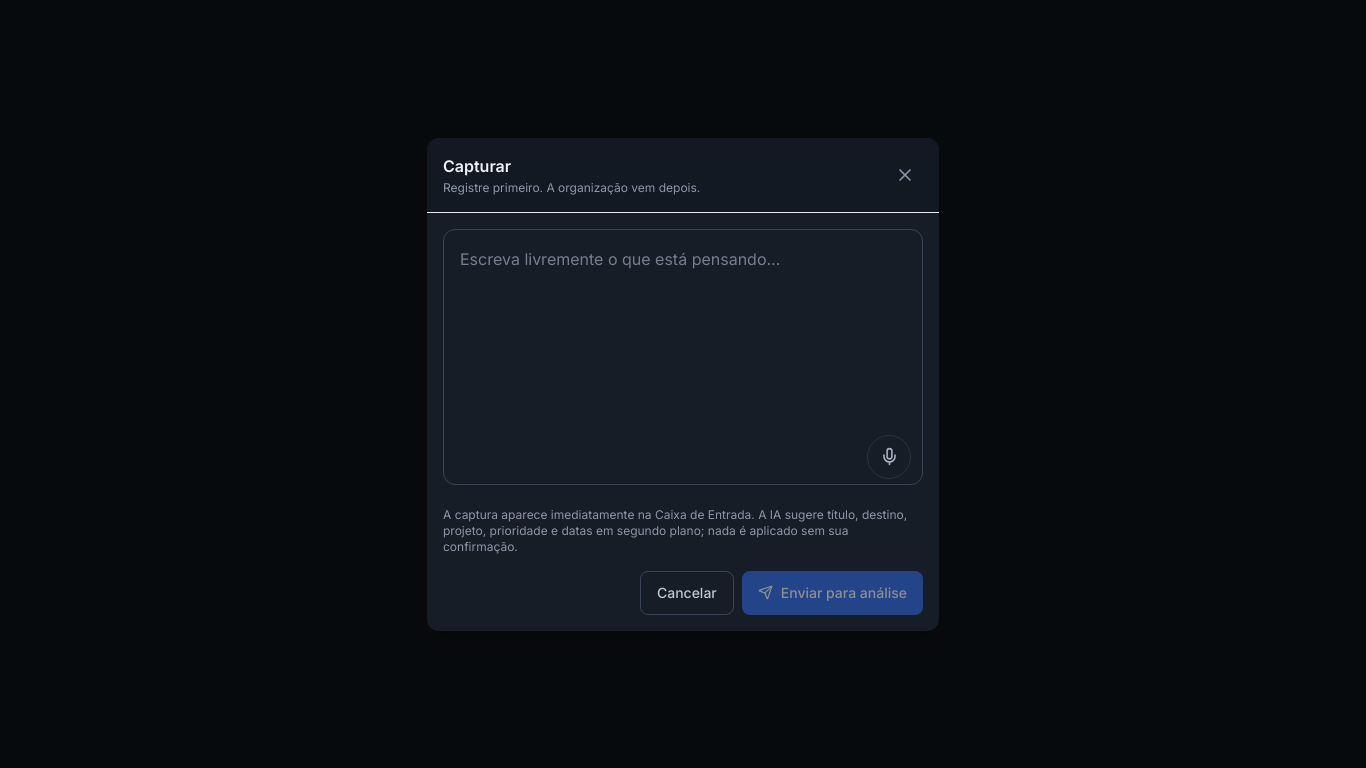
Test: QuickCaptureModal — captura livre por texto › mantém o modal aberto e mostra erro quando a persistência falha
The image size is (1366, 768).
Type "Uma captura importante" into the text box with placeholder "Escreva livremente o que está pensando…".
click(683, 356); type("Uma captura importante")  # box [443,228,923,484]
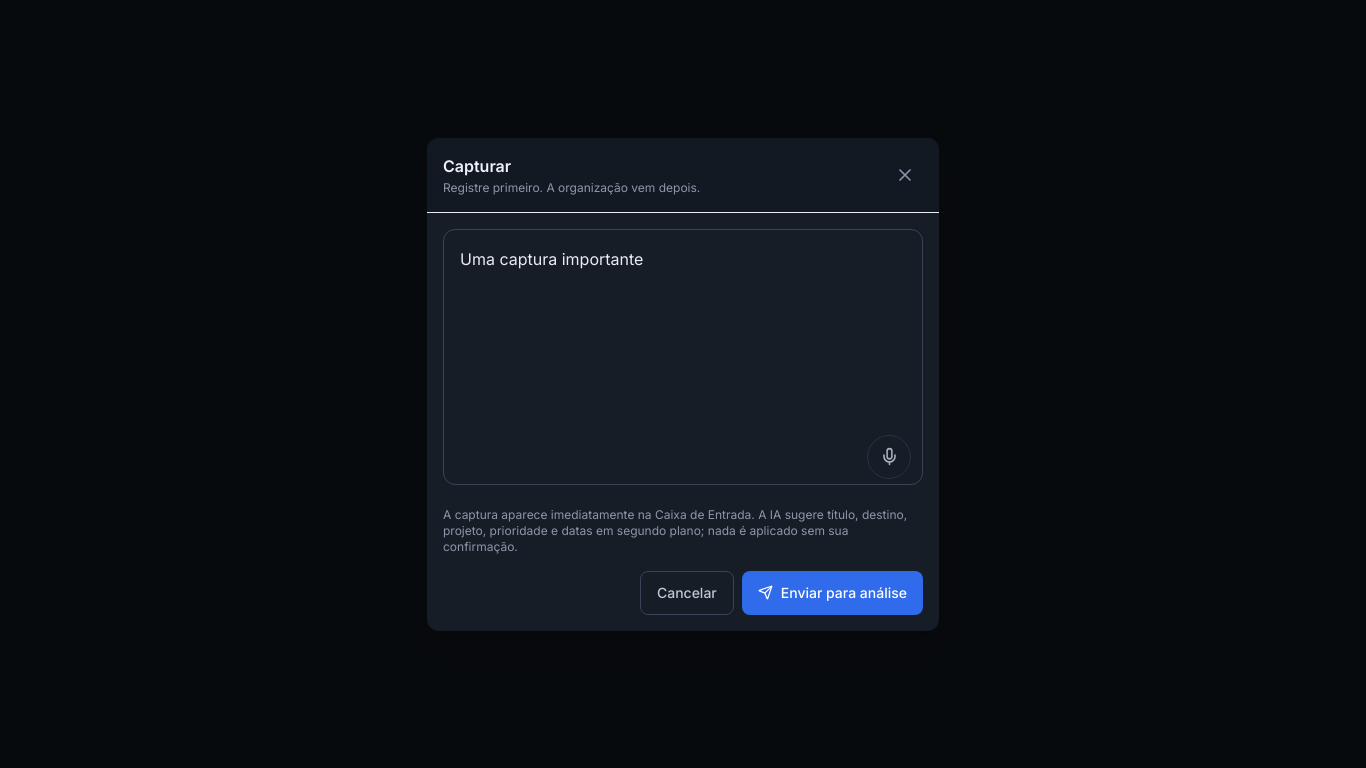
Click the button "Enviar para análise".
click(832, 592)  # box [742,570,923,614]
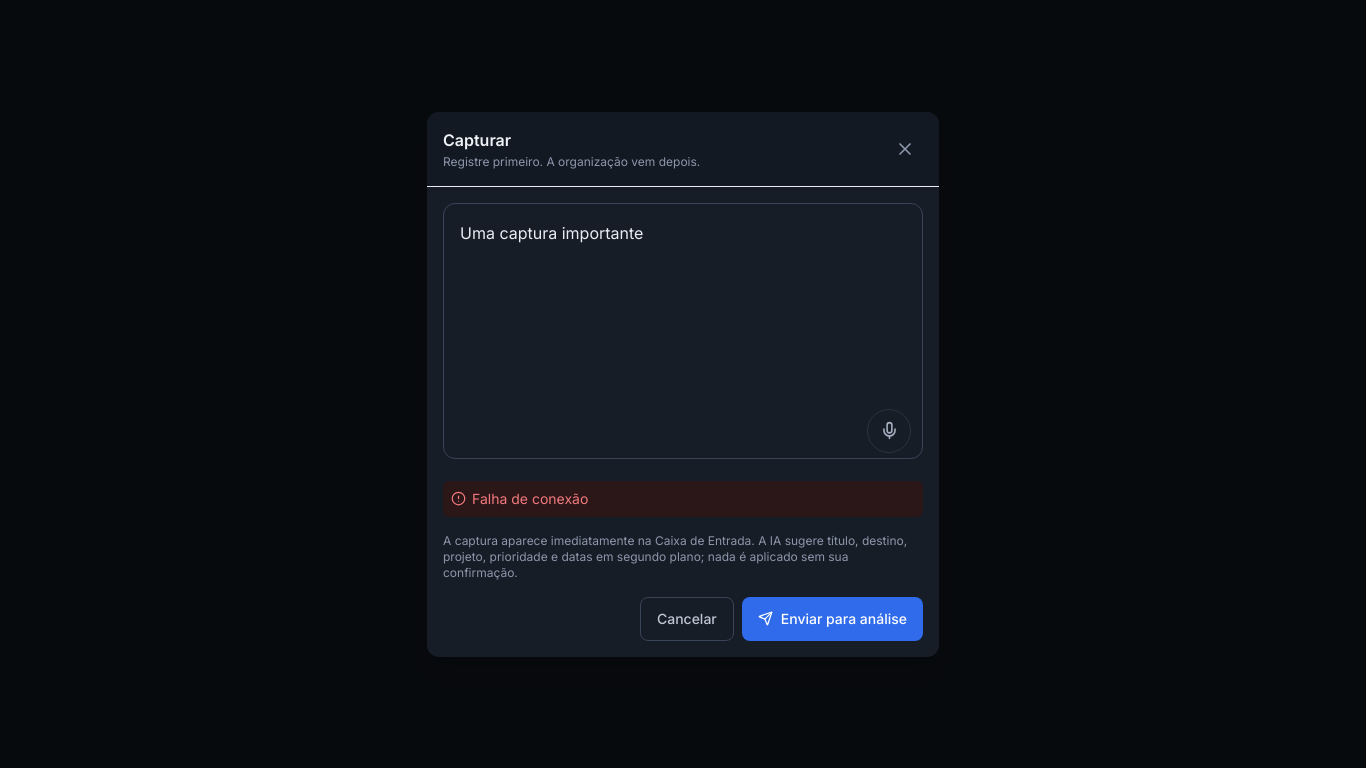
Now the message reads "Falha de conexão", box [472,490,588,506]
